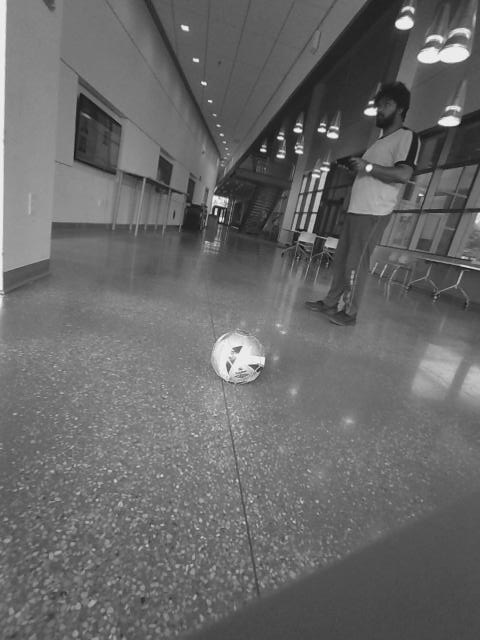ball: (207, 326, 270, 386)
